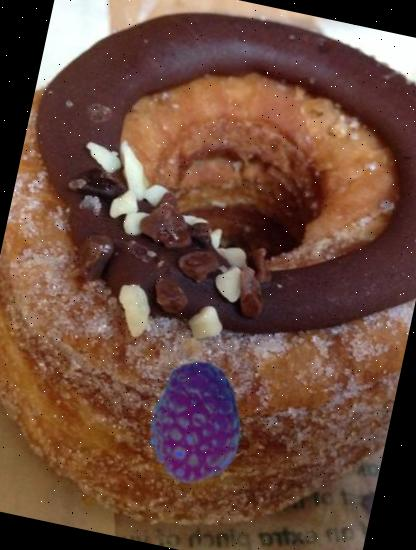Raspberry: (122, 350, 266, 495)
